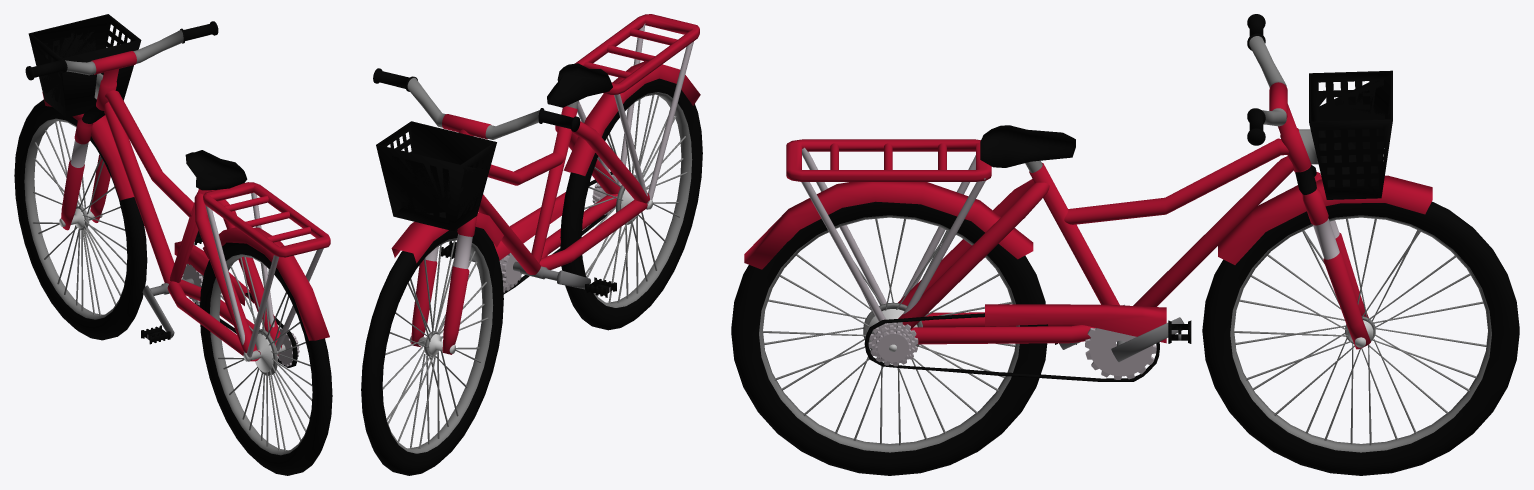
File: 2bicicleta.fbx
The picture shows the model from 3 angles, left to right: view 1: azimuth 30°, elevation 25°; view 2: azimuth 150°, elevation 25°; view 3: azimuth 270°, elevation 25°; orthographic projection. The views are drawn at different scales.
Parts seen in each view (by area): view 1: Cylinder; view 2: Cylinder; view 3: Cylinder.
Boxes of the visible parts, left/top/right/bottom form: Cylinder: left=14, top=14, right=332, bottom=475; Cylinder: left=361, top=14, right=702, bottom=475; Cylinder: left=731, top=14, right=1519, bottom=475.
Size of the model in its own units: 0.7322 by 1.19 by 2.12.
